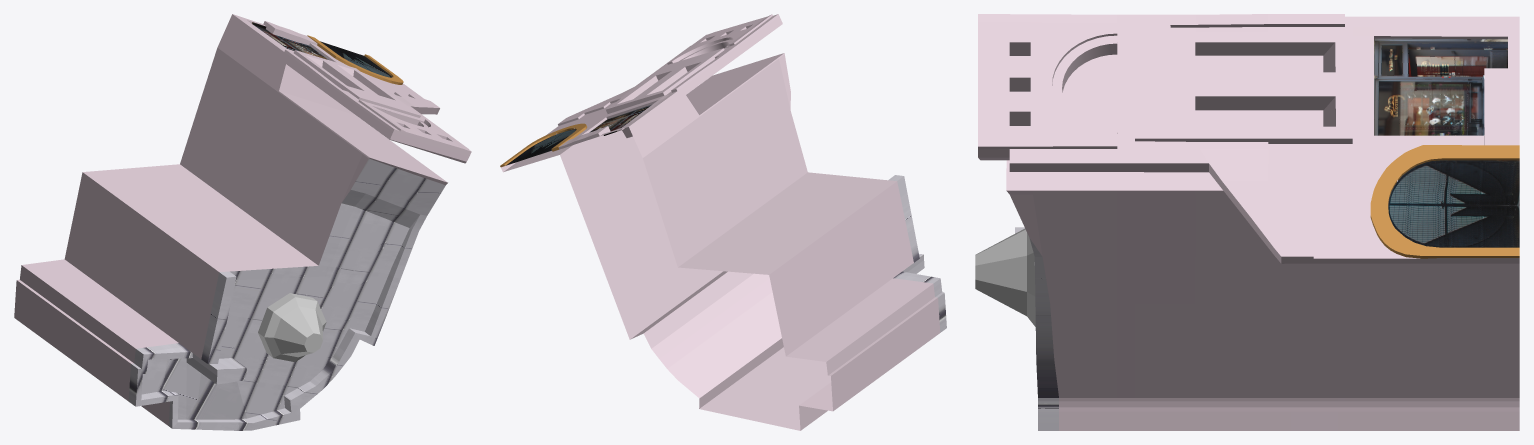
Rendered from Vaike-Karja_6a.obj.
The picture shows the model from 3 angles, left to right: view 1: azimuth 30°, elevation 25°; view 2: azimuth 150°, elevation 25°; view 3: azimuth 270°, elevation 25°; orthographic projection. The views are drawn at different scales.
Parts seen in each view (by area): view 1: polySurface5; view 2: polySurface5; view 3: polySurface5.
Part boxes in pixels (left/top/right/bottom): polySurface5: left=14, top=14, right=471, bottom=430; polySurface5: left=500, top=14, right=946, bottom=430; polySurface5: left=975, top=14, right=1519, bottom=430.
Size of the model in its own units: 15.12 by 11.59 by 11.93.
